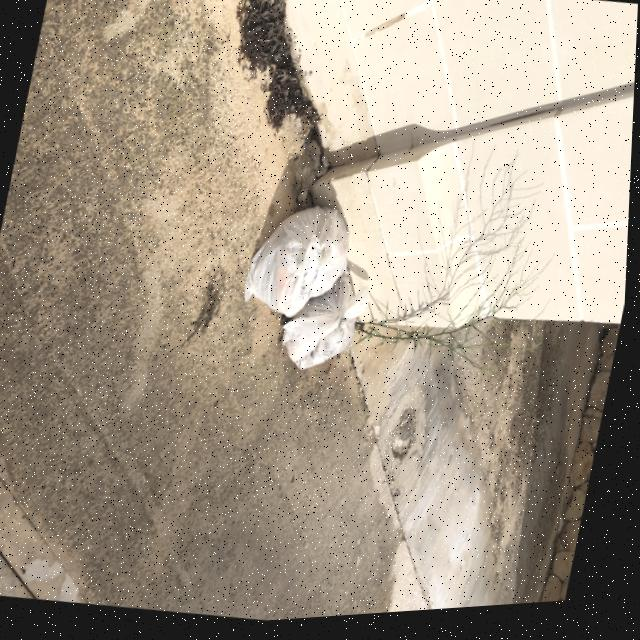Organic Waste -White Bag-: (232, 197, 365, 333), (274, 280, 376, 393)
